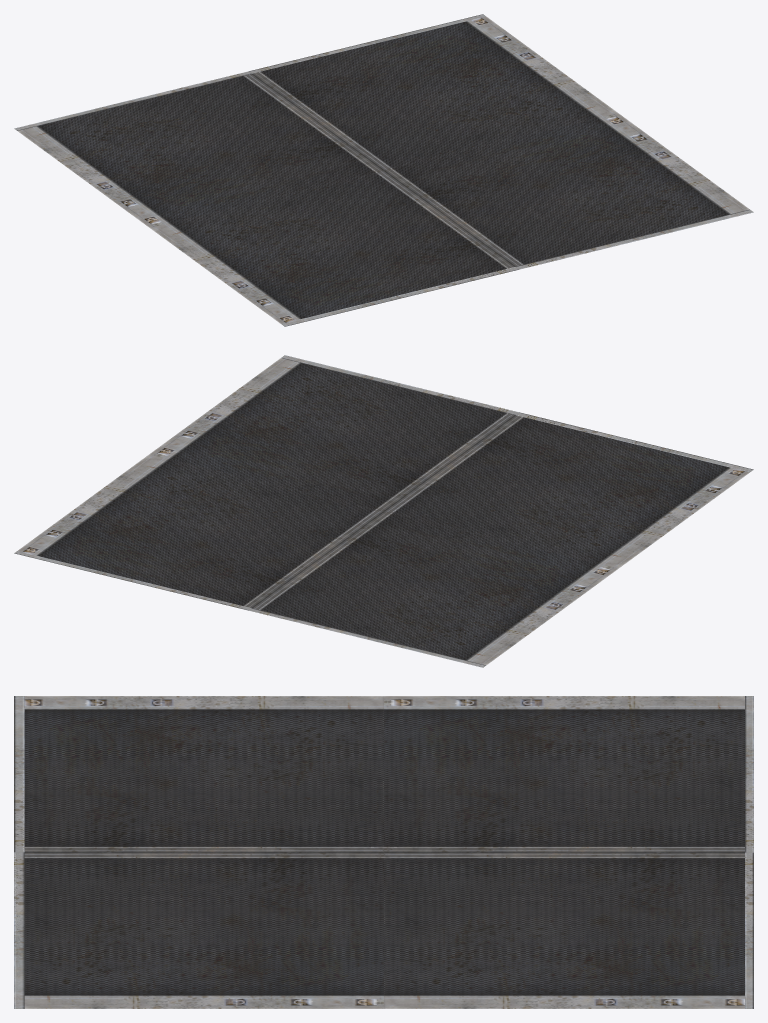
Rendered from Floor_A_5mts_14.fbx.
3 views of the same model, one above another, from view 1: azimuth 30°, elevation 25°; view 2: azimuth 150°, elevation 25°; view 3: azimuth 270°, elevation 25° (orthographic). The views are drawn at different scales.
Parts seen in each view (by area): view 1: Floor_A_5mts_14; view 2: Floor_A_5mts_14; view 3: Floor_A_5mts_14.
Boxes of the visible parts, left/top/right/bottom form: Floor_A_5mts_14: left=14, top=14, right=753, bottom=326; Floor_A_5mts_14: left=14, top=355, right=753, bottom=667; Floor_A_5mts_14: left=14, top=696, right=753, bottom=1008.
Size of the model in its own units: 500 by 6.56e-05 by 500.
1 material, 1 textured.
